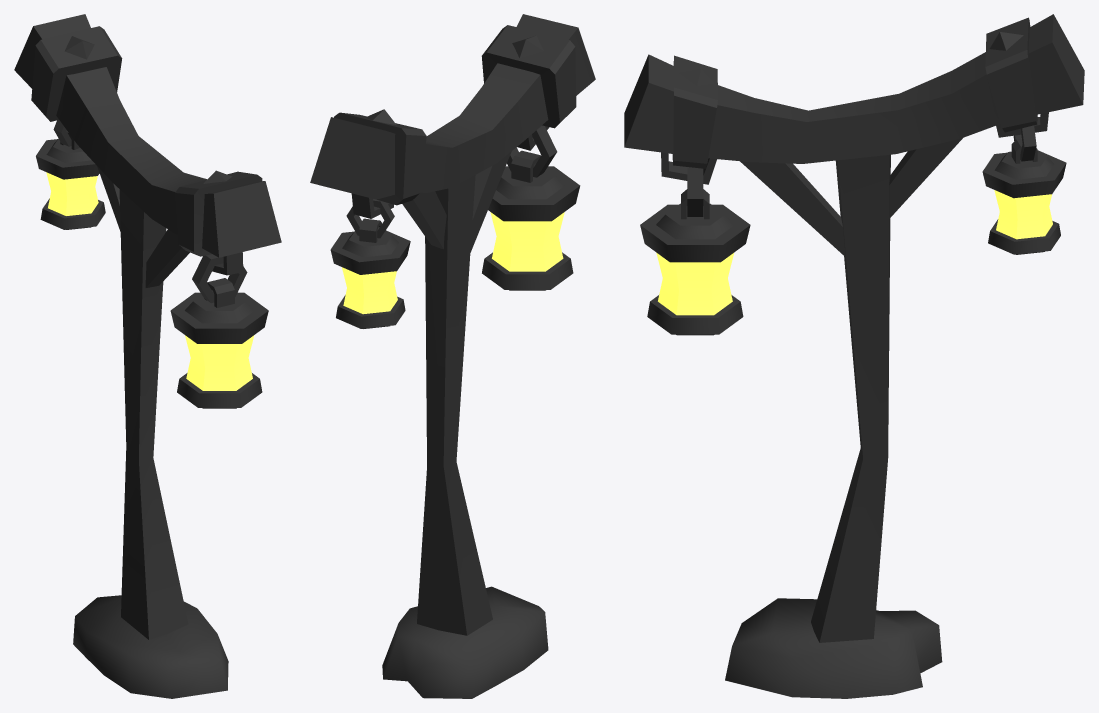
The model's file is SM_PROP_streetlamp_v02_04.FBX.
The picture shows the model from 3 angles, left to right: view 1: azimuth 30°, elevation 25°; view 2: azimuth 150°, elevation 25°; view 3: azimuth 270°, elevation 25°; orthographic projection. The views are drawn at different scales.
Parts seen in each view (by area): view 1: SM_PROP_streetlamp_v02_04; view 2: SM_PROP_streetlamp_v02_04; view 3: SM_PROP_streetlamp_v02_04.
Boxes of the visible parts, bbox=[...] form: SM_PROP_streetlamp_v02_04: bbox=[14, 14, 281, 698]; SM_PROP_streetlamp_v02_04: bbox=[310, 14, 595, 698]; SM_PROP_streetlamp_v02_04: bbox=[624, 14, 1084, 698].
Size of the model in its own units: 82.32 by 263 by 403.
